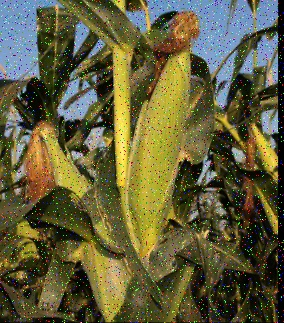corn_plant: (22, 118, 131, 320), (126, 6, 203, 253)
